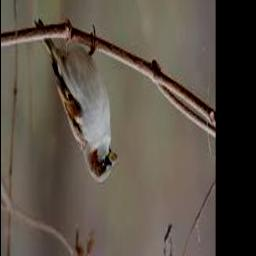Sparrow: (34, 19, 118, 183)
